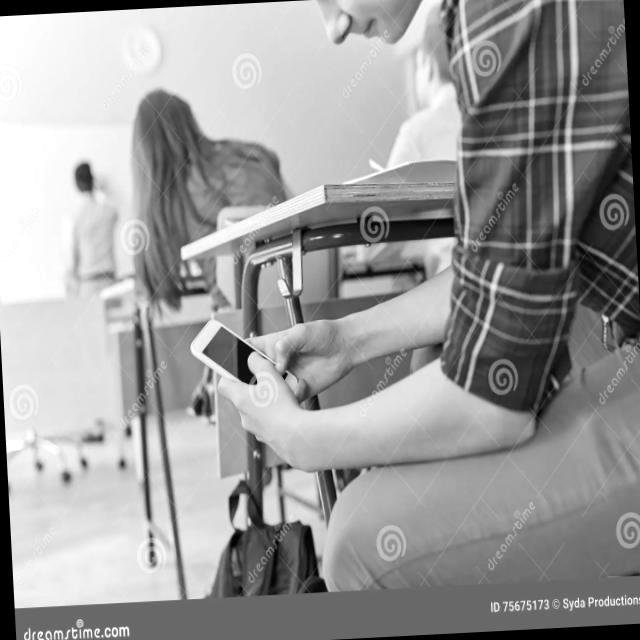phone: (188, 312, 316, 414)
